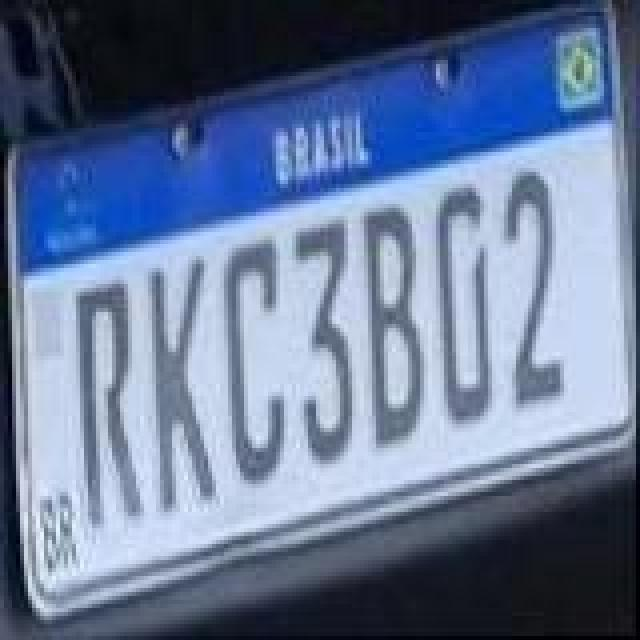2: (504, 174, 564, 410)
3: (294, 218, 358, 466)
B: (362, 202, 426, 450)
C: (222, 238, 286, 486)
D: (432, 188, 492, 432)
K: (146, 256, 218, 516)
R: (76, 280, 144, 528)
